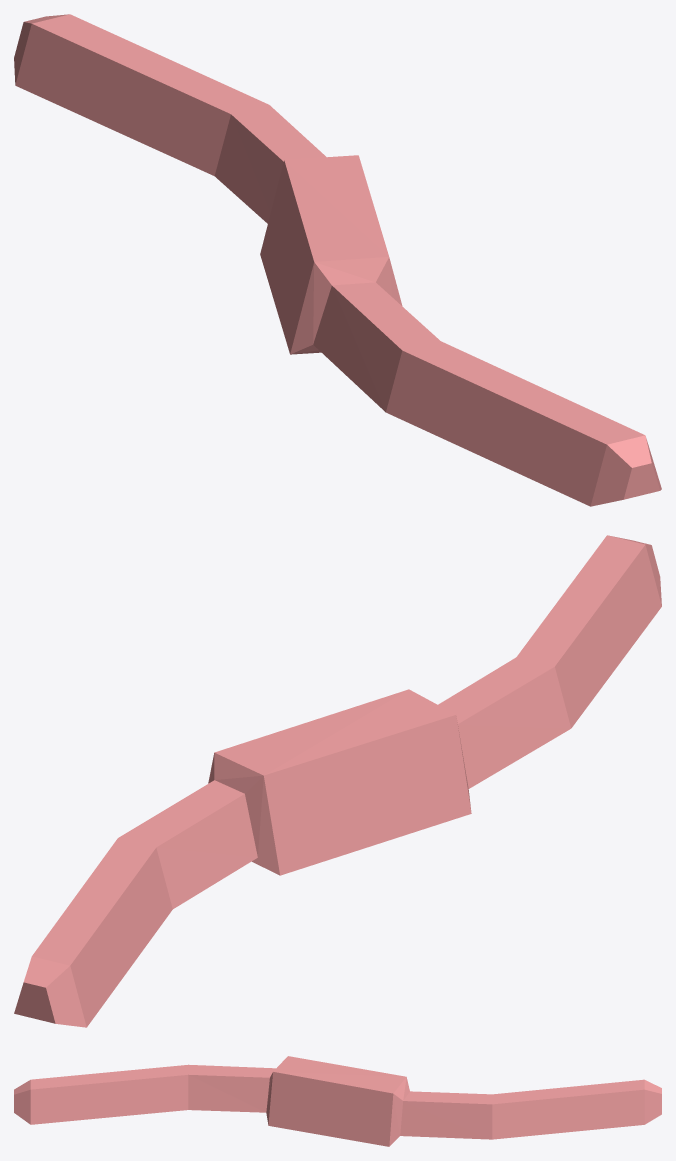
File: Worm2.fbx
3 renders of one model, top to bottom at view 1: azimuth 30°, elevation 25°; view 2: azimuth 150°, elevation 25°; view 3: azimuth 270°, elevation 25°, orthographic. The views are drawn at different scales.
Parts seen in each view (by area): view 1: Worm2; view 2: Worm2; view 3: Worm2.
Part boxes in pixels (x1,y1,x2,y2): Worm2: [14, 14, 661, 506]; Worm2: [14, 535, 661, 1027]; Worm2: [14, 1056, 661, 1146].
Size of the model in its own units: 16.78 by 8 by 95.36.
